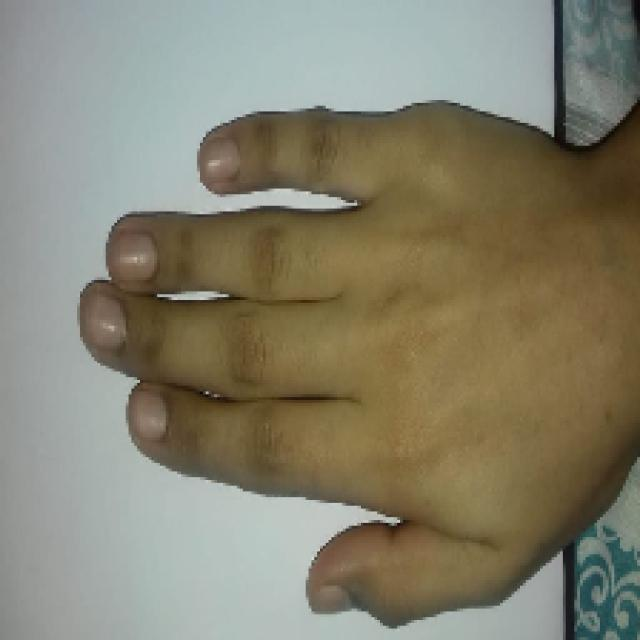Nail: (108, 232, 158, 280), (81, 296, 126, 349), (128, 390, 168, 441), (199, 138, 240, 181), (311, 585, 352, 612)
